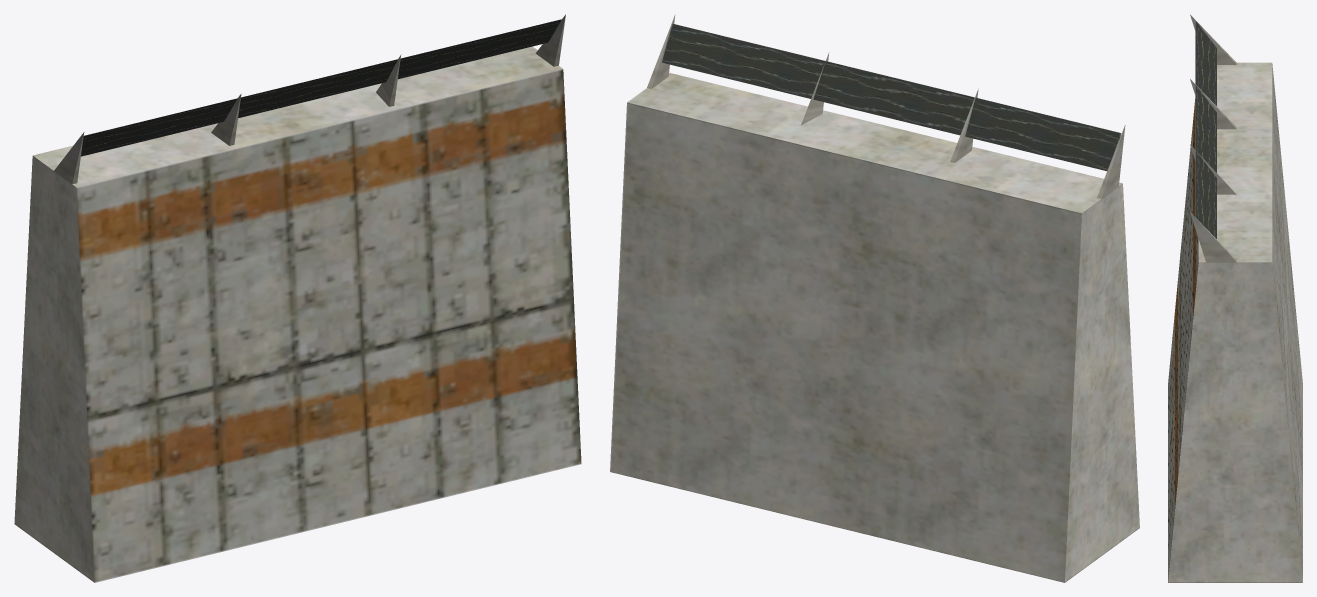
Rendered from mun_all_military_wall_strong_rebl_s01_l2.fbx.
3 renders of one model, left to right at view 1: azimuth 30°, elevation 25°; view 2: azimuth 150°, elevation 25°; view 3: azimuth 270°, elevation 25°, orthographic. The views are drawn at different scales.
Visible parts, largest first — view 1: mesh_node; view 2: mesh_node; view 3: mesh_node.
Part boxes in pixels (<box>): mesh_node: <box>14,14,581,582</box>; mesh_node: <box>610,14,1139,582</box>; mesh_node: <box>1168,14,1302,582</box>.
Bounding box in the file's own units: 8 × 6.93 × 2.29.
